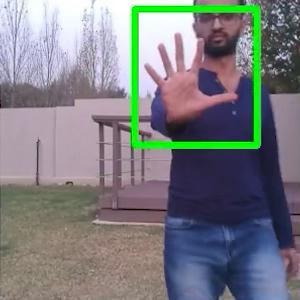follow_hand: (139, 26, 240, 127)
